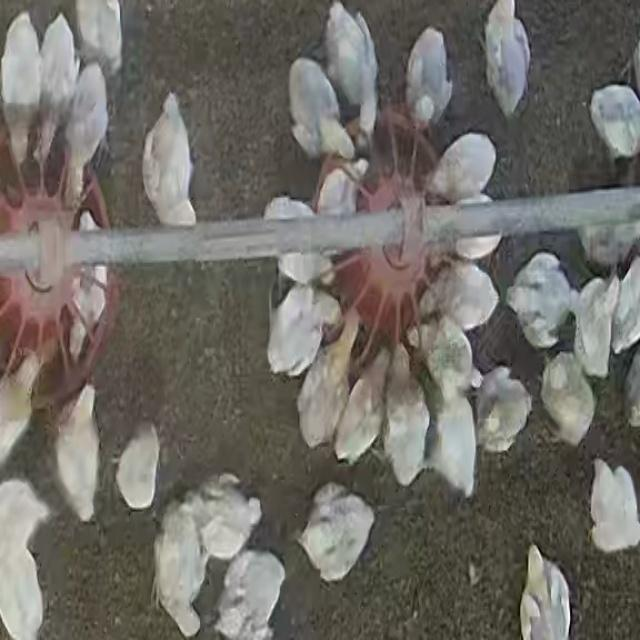chicken: (303, 314, 362, 451), (141, 93, 199, 230), (0, 481, 51, 636), (151, 498, 208, 636), (323, 2, 378, 136), (381, 347, 431, 489), (290, 57, 357, 160), (332, 346, 389, 466), (63, 62, 109, 202), (422, 385, 478, 500), (508, 254, 576, 348), (262, 195, 328, 291), (306, 486, 372, 581), (213, 548, 281, 640), (180, 478, 260, 555), (266, 282, 330, 377), (56, 386, 99, 523), (68, 212, 108, 359), (38, 9, 74, 169), (485, 1, 532, 121), (2, 12, 37, 169), (425, 131, 498, 204), (405, 25, 453, 136), (473, 366, 531, 455), (520, 543, 572, 638), (542, 354, 594, 448), (432, 261, 499, 333), (1, 358, 40, 481), (422, 319, 477, 405), (590, 460, 639, 554), (574, 274, 618, 376), (589, 83, 640, 165), (111, 419, 157, 509), (74, 0, 123, 75), (444, 202, 503, 262), (577, 216, 637, 272), (610, 253, 640, 349), (316, 160, 364, 218)
